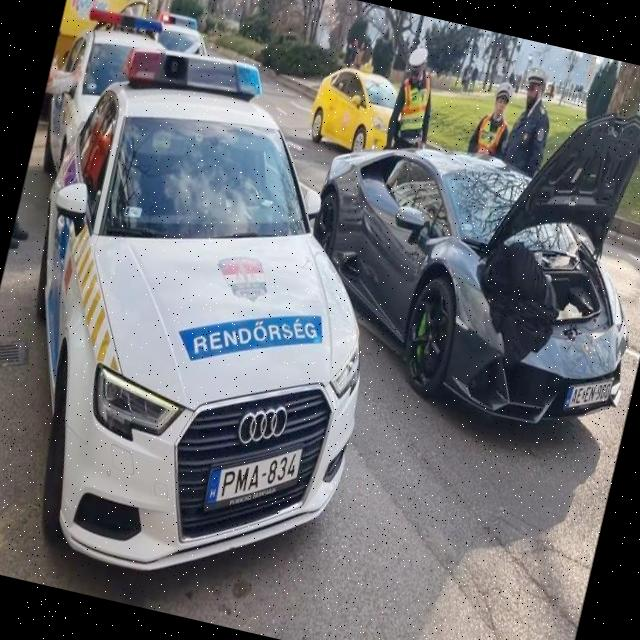licence: (200, 426, 306, 532), (564, 372, 615, 420)
